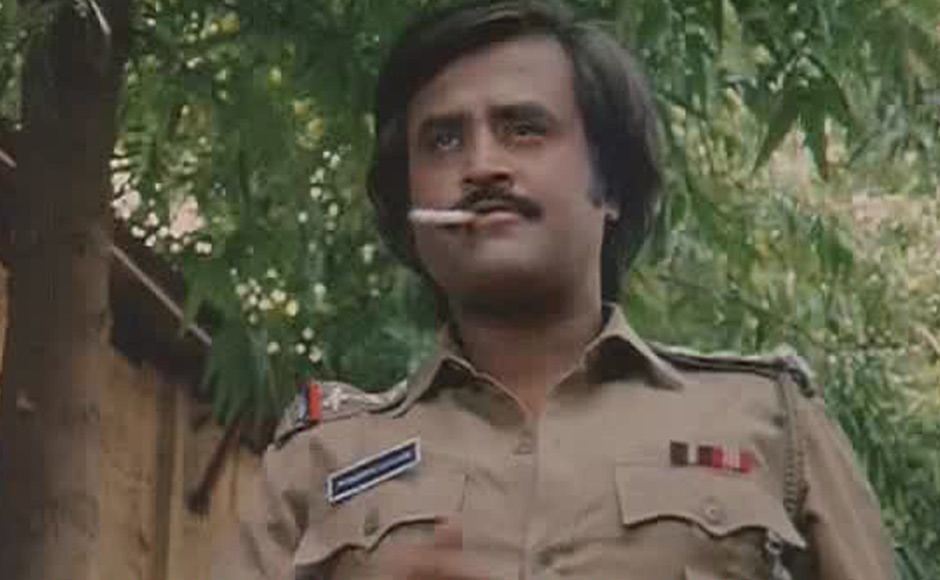cigarette: (402, 196, 491, 228)
